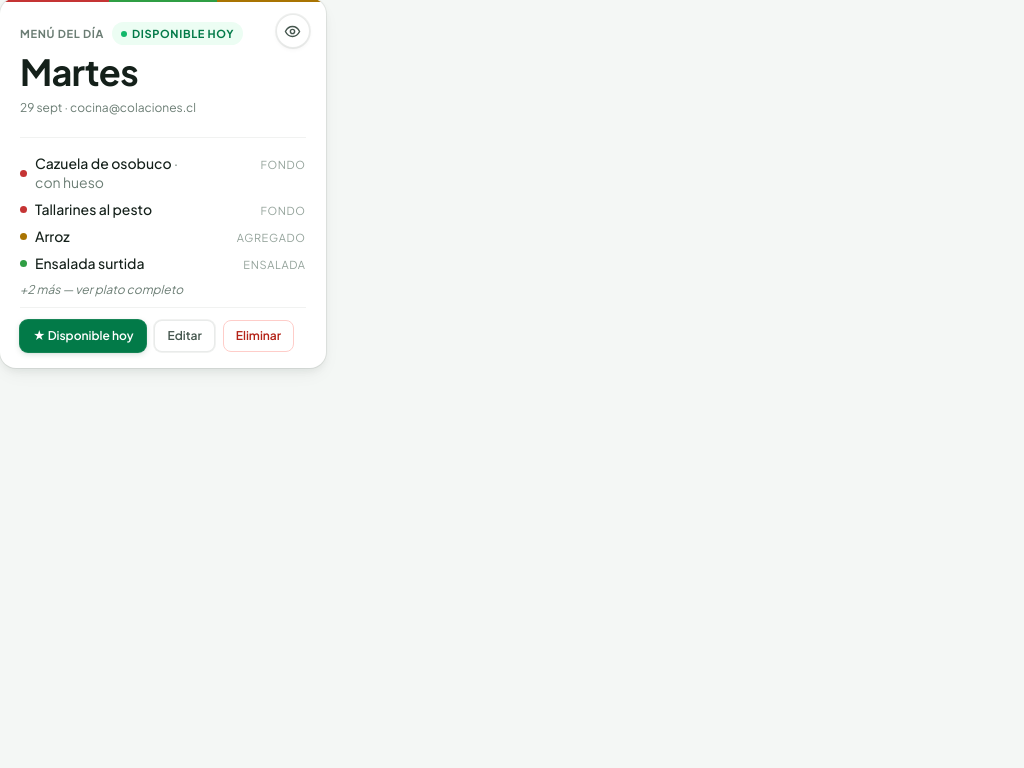
Test case: PlatoList › el ojo abre el detalle con TODOS los ítems y cierra al pulsar fuera
The width and height of the screenshot is (1024, 768).
Click the button named "ver plato completo" at [293, 31], box [276,14,310,48]
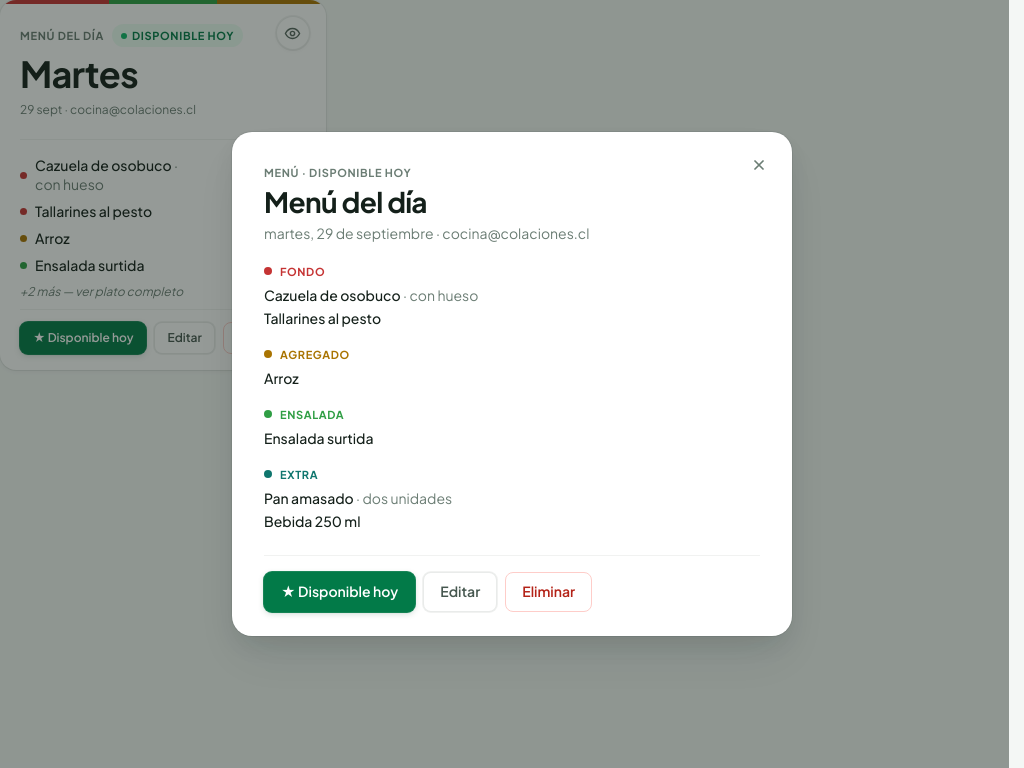
expect the dialog is shown: met, box [232,132,792,636]
expect the text "Pan amasado" is shown: met, box [264,489,354,507]
expect the text "Bebida 250 ml" is shown: met, box [264,512,360,530]
Press the mouse on the element that starts with "Menú" at [512, 384], box [0,0,1023,767]
Wait 200 ms
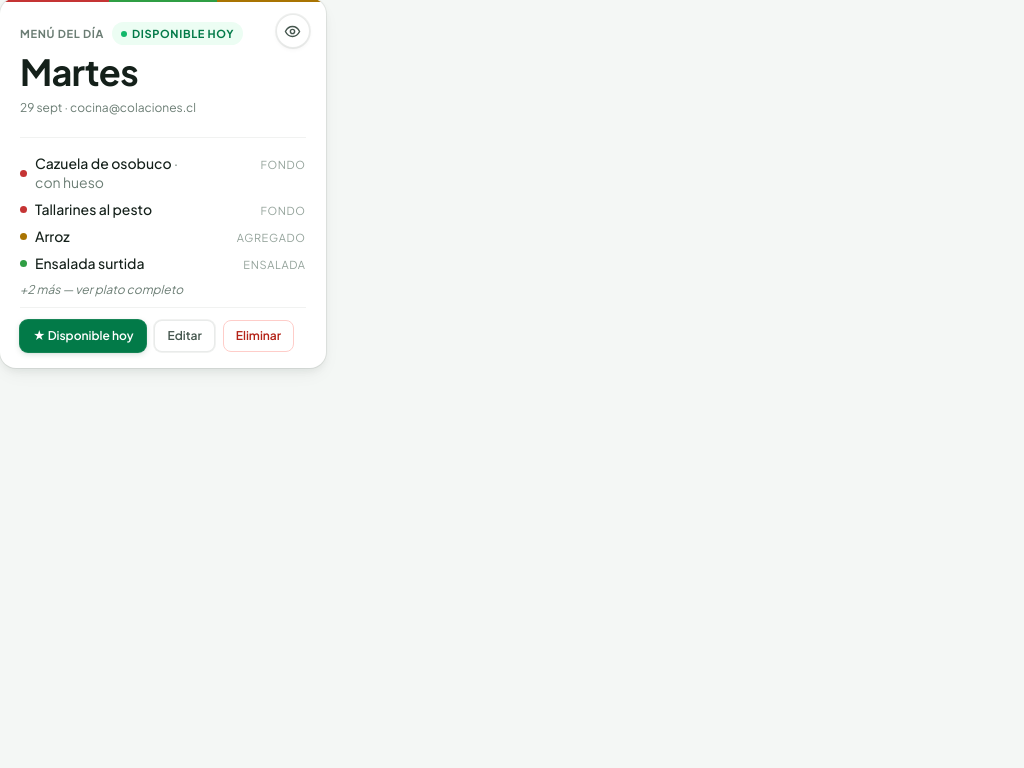
expect the dialog is gone: met
